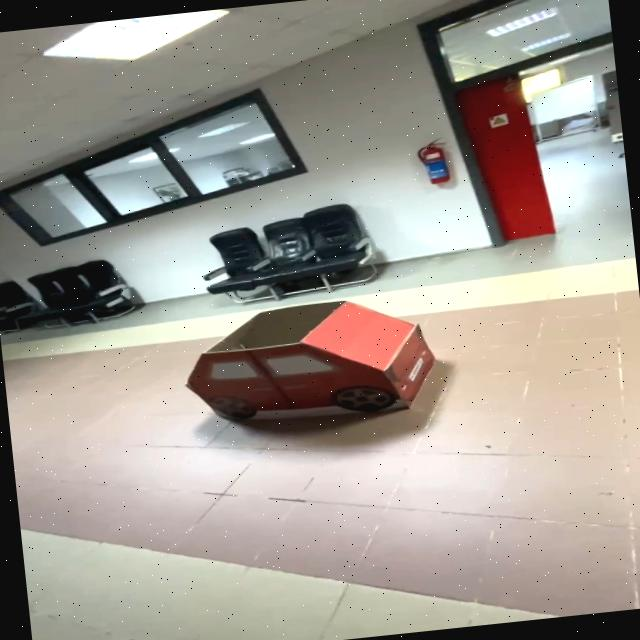red_car: (151, 281, 472, 452)
